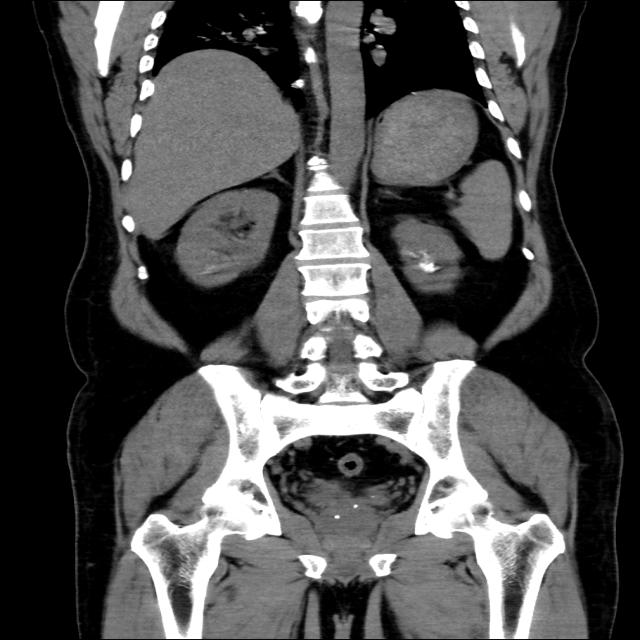kidneystone: (418, 261, 442, 274)
